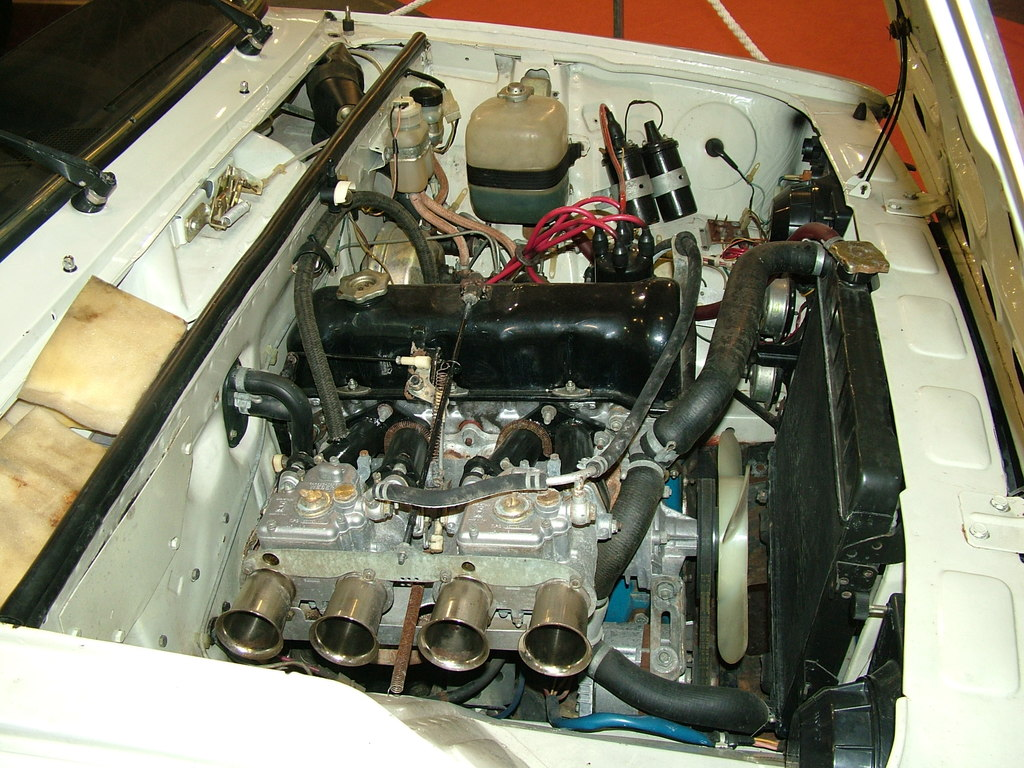Car: (0, 0, 1023, 767), (389, 0, 1022, 224)
